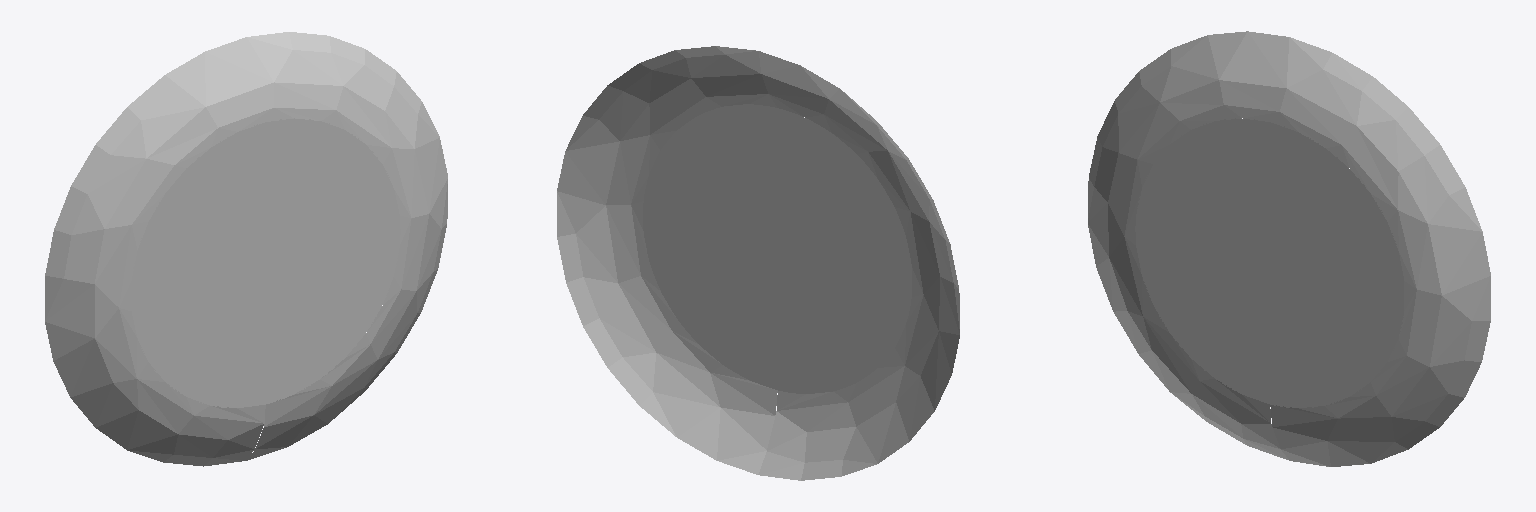
File: jogador-collision.obj
3 renders of one model, left to right at view 1: azimuth 30°, elevation 25°; view 2: azimuth 150°, elevation 25°; view 3: azimuth 330°, elevation 25°, orthographic.
Visible parts, largest first — view 1: Default Default_Modelo; view 2: Default Default_Modelo; view 3: Default Default_Modelo.
Boxes of the visible parts, x1=… form: Default Default_Modelo: x1=45, y1=32, x2=447, y2=466; Default Default_Modelo: x1=557, y1=46, x2=959, y2=480; Default Default_Modelo: x1=1088, y1=31, x2=1490, y2=466.
Size of the model in its own units: 11.96 by 12.02 by 1.01.